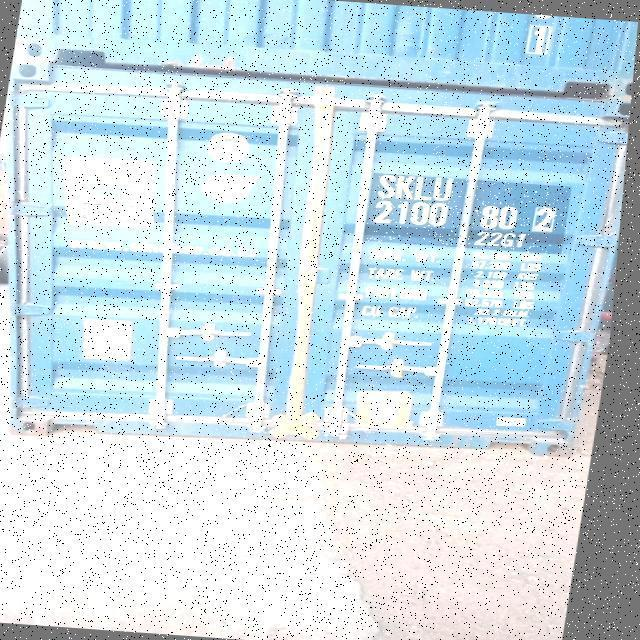container_number_h: (366, 173, 576, 255)
